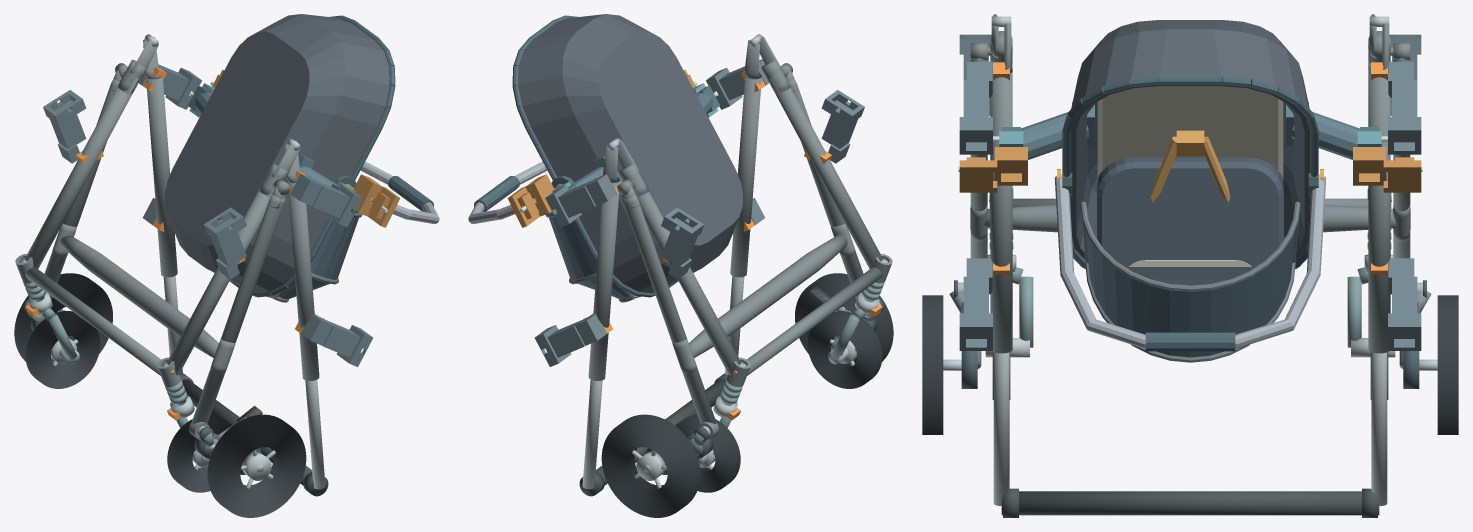
The model's file is S07_w650_state3_wheel_S.glb.
3 views of the same model, side by side, from view 1: azimuth 30°, elevation 25°; view 2: azimuth 150°, elevation 25°; view 3: azimuth 270°, elevation 25° (orthographic). The views are drawn at different scales.
Parts seen in each view (by area): view 1: S07_Cabin, RL_tire.008, FR_tire.008, V46_rearbar.009, main_lower_1.009, V46_rear_leg_-1.009, main_upper_1.009, main_upper_-1.009, main_lower_-1.009, front_fixed_round_tube.008, RR_tire.008, FL_tire.008 (+15 smaller); view 2: S07_Cabin, RR_tire.008, FL_tire.008, V46_rearbar.009, main_lower_-1.009, V46_rear_leg_1.009, main_upper_-1.009, main_upper_1.009, main_lower_1.009, front_fixed_round_tube.008, FR_tire.008, RL_tire.008 (+16 smaller); view 3: S07_Cabin, round_handle.008, main_upper_1.009, main_upper_-1.009, S07_Cabin_Mount_M, RL_tire.008, RR_tire.008, Universal_Cabin_Receiver_M_-1, Universal_Cabin_Receiver_M_1, Universal_Cabin_Receiver_H_1, Universal_Cabin_Receiver_H_-1, D02_WideAdapter_M_-1 (+13 smaller).
Part boxes in pixels (left/top/right/bottom): S07_Cabin: left=165, top=14, right=439, bottom=302; RL_tire.008: left=207, top=414, right=306, bottom=517; FR_tire.008: left=25, top=311, right=100, bottom=388; V46_rearbar.009: left=60, top=235, right=218, bottom=357; main_lower_1.009: left=25, top=78, right=138, bottom=268; V46_rear_leg_-1.009: left=191, top=194, right=285, bottom=424; main_upper_1.009: left=146, top=77, right=177, bottom=277; main_upper_-1.009: left=287, top=180, right=319, bottom=380; main_lower_-1.009: left=167, top=188, right=273, bottom=375; front_fixed_round_tube.008: left=25, top=267, right=161, bottom=375; RR_tire.008: left=14, top=273, right=112, bottom=363; FL_tire.008: left=167, top=414, right=231, bottom=492; S07_Cabin: left=468, top=14, right=742, bottom=302; RR_tire.008: left=601, top=414, right=700, bottom=517; FL_tire.008: left=807, top=311, right=882, bottom=388; V46_rearbar.009: left=689, top=235, right=847, bottom=357; main_lower_-1.009: left=769, top=78, right=882, bottom=268; V46_rear_leg_1.009: left=622, top=194, right=716, bottom=424; main_upper_-1.009: left=730, top=74, right=761, bottom=277; main_upper_1.009: left=588, top=179, right=620, bottom=380; main_lower_1.009: left=634, top=188, right=740, bottom=375; front_fixed_round_tube.008: left=746, top=267, right=882, bottom=375; FR_tire.008: left=675, top=414, right=740, bottom=492; RL_tire.008: left=795, top=273, right=893, bottom=363; S07_Cabin: left=1054, top=20, right=1326, bottom=362; round_handle.008: left=1001, top=491, right=1379, bottom=515; main_upper_1.009: left=1368, top=68, right=1390, bottom=353; main_upper_-1.009: left=990, top=72, right=1012, bottom=353; S07_Cabin_Mount_M: left=993, top=101, right=1387, bottom=159; RL_tire.008: left=922, top=295, right=943, bottom=434; RR_tire.008: left=1437, top=295, right=1458, bottom=434; Universal_Cabin_Receiver_M_-1: left=959, top=61, right=992, bottom=154; Universal_Cabin_Receiver_M_1: left=1388, top=61, right=1421, bottom=154; Universal_Cabin_Receiver_H_1: left=1388, top=258, right=1421, bottom=350; Universal_Cabin_Receiver_H_-1: left=959, top=258, right=992, bottom=350; D02_WideAdapter_M_-1: left=958, top=147, right=1027, bottom=192.
Size of the model in its own units: 0.7254 by 0.8441 by 0.766.
